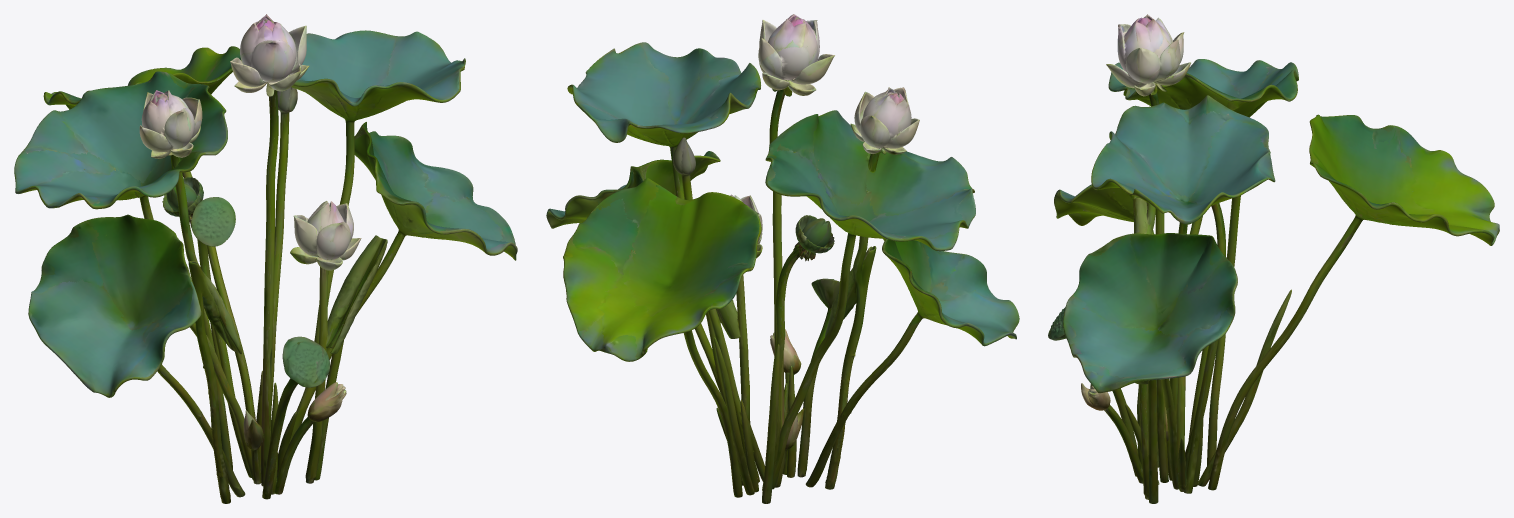
The model's file is HeHua_2.glb.
3 views of the same model, side by side, from view 1: azimuth 30°, elevation 25°; view 2: azimuth 150°, elevation 25°; view 3: azimuth 270°, elevation 25° (orthographic). The views are drawn at different scales.
Visible parts, largest first — view 1: node_0; view 2: node_0; view 3: node_0.
Boxes of the visible parts, x1,y1,x2,y2 form: node_0: [14, 14, 517, 503]; node_0: [546, 14, 1019, 503]; node_0: [1048, 14, 1499, 503].
Bounding box in the file's own units: 0.9782 × 0.9789 × 0.8704.
1 material, 1 textured.
